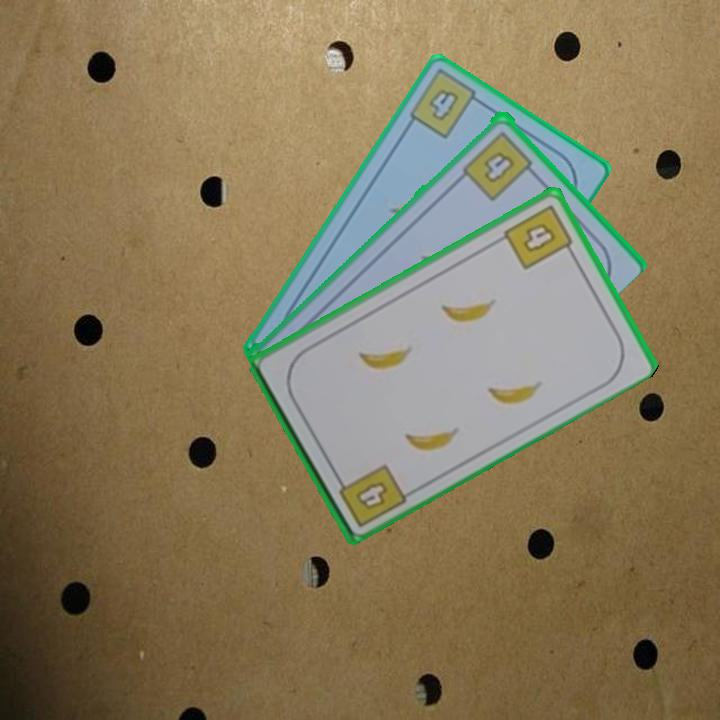4b: (459, 127, 539, 203), (405, 68, 487, 142), (500, 200, 578, 273), (331, 460, 409, 530)
